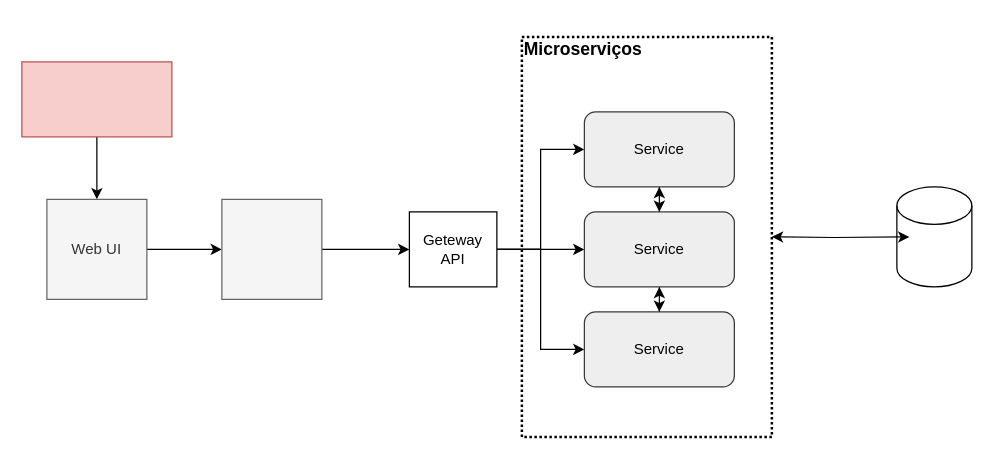
Image size: 994x460. Some labels were removed from this diagram. The shapes that lost their labels are listed below. From the top down, each one's centre as x and y in pixels, then its label:
At point 96,99: "User".
At point 271,248: "Backend Spring API".
At point 934,236: "BD".
